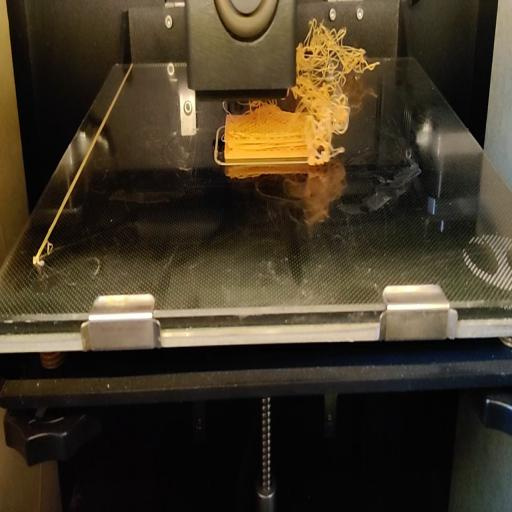spaghetti: (294, 16, 380, 100)
